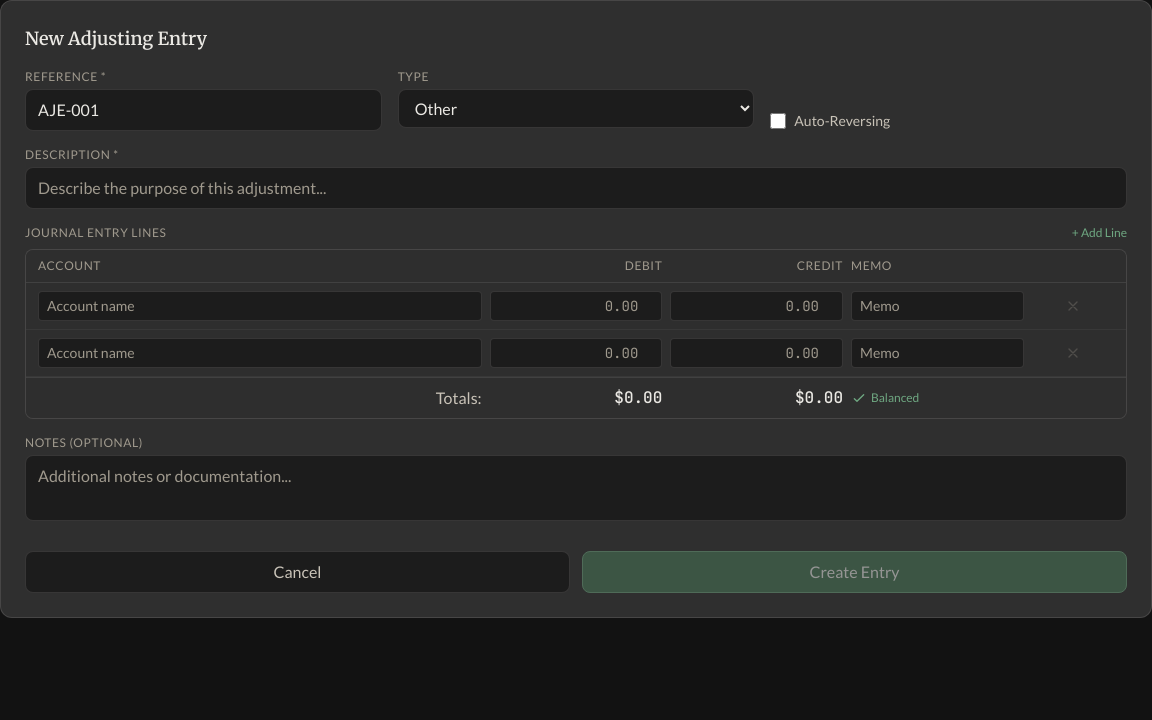
AdjustmentEntryForm › shows balanced indicator when debits equal credits
Step 1. Type "1000" into the 1st number field with placeholder "0.00" → (576, 306), box [490,291,662,321]
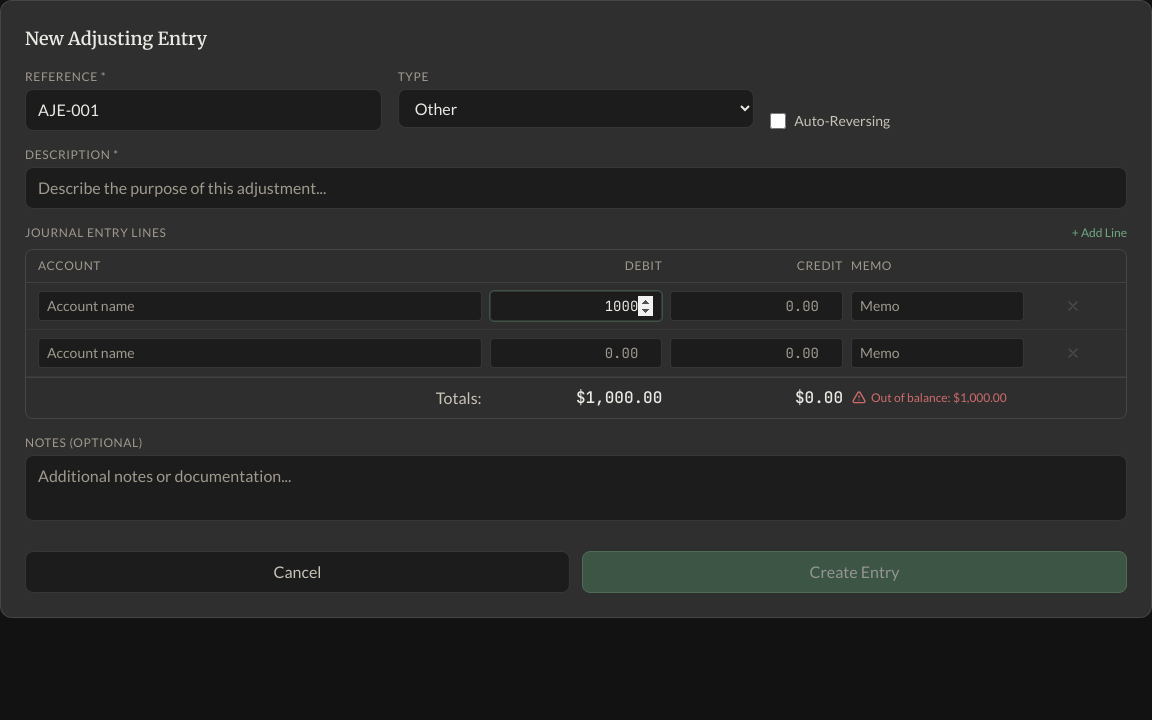
Step 2. Type "0" into the 1st number field with placeholder "0.00" → (757, 306), box [670,291,843,321]
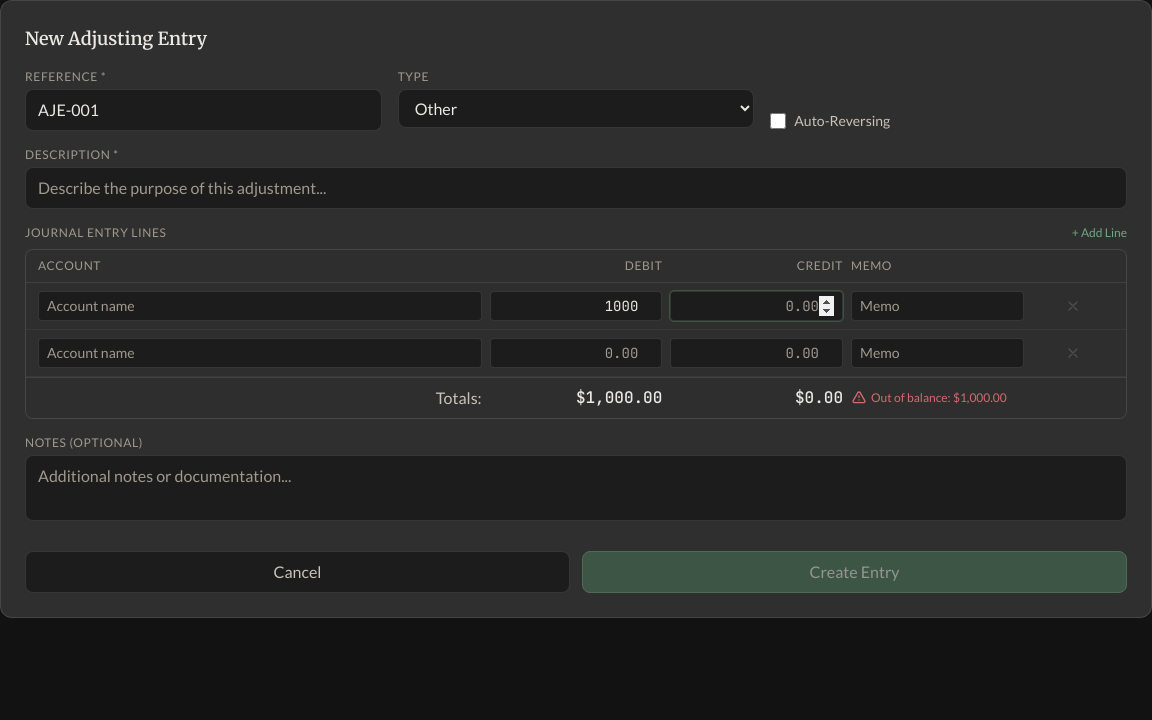
Step 3. Type "0" into the 2nd number field with placeholder "0.00" → (576, 353), box [490,338,662,368]
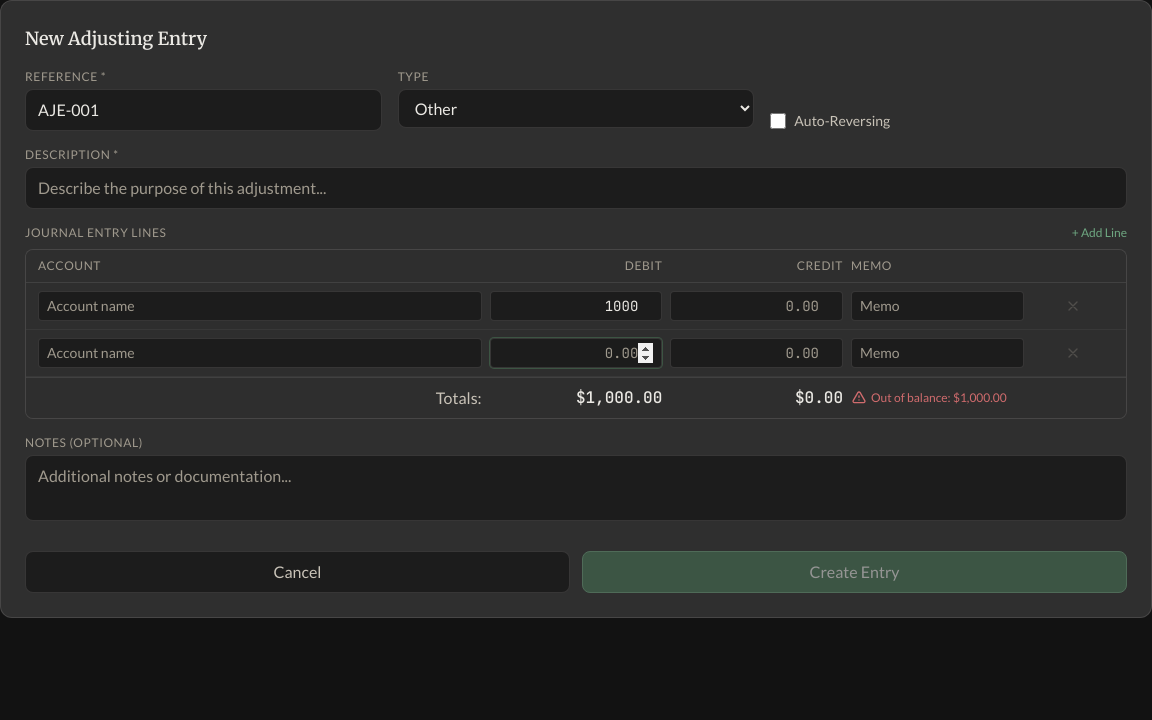
Step 4. Type "1000" into the 3rd number field with placeholder "0.00" → (757, 353), box [670,338,843,368]
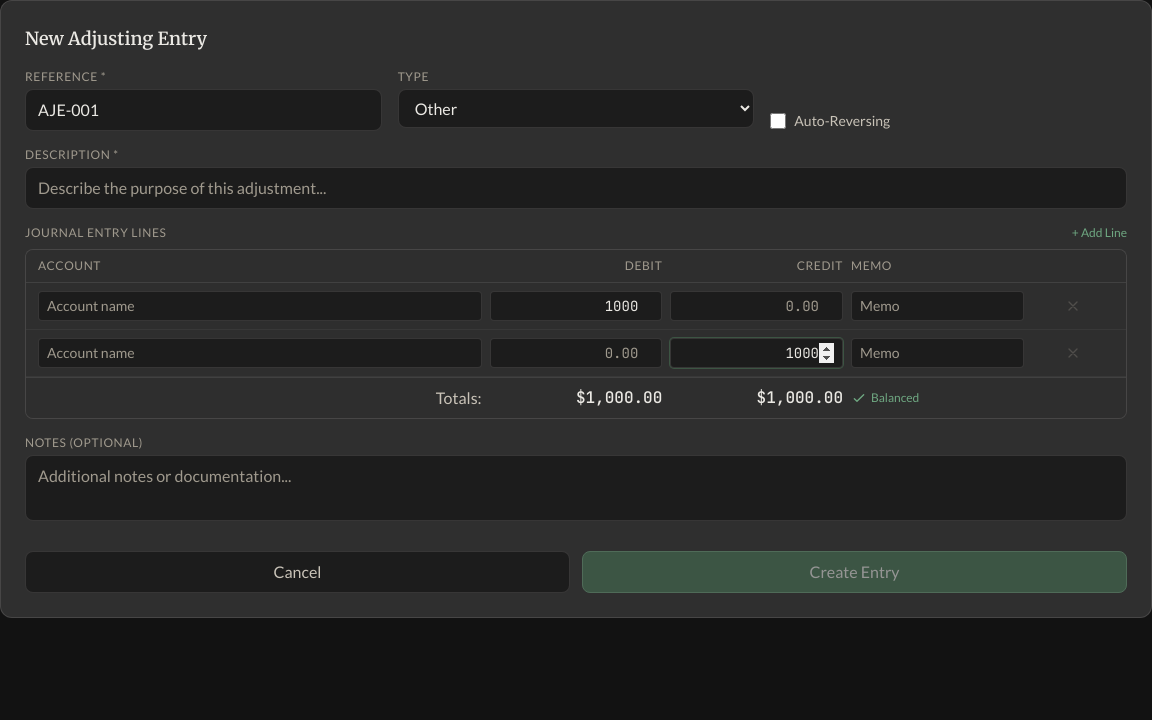
Now the text "Balanced" is shown, box [851,390,919,406]
